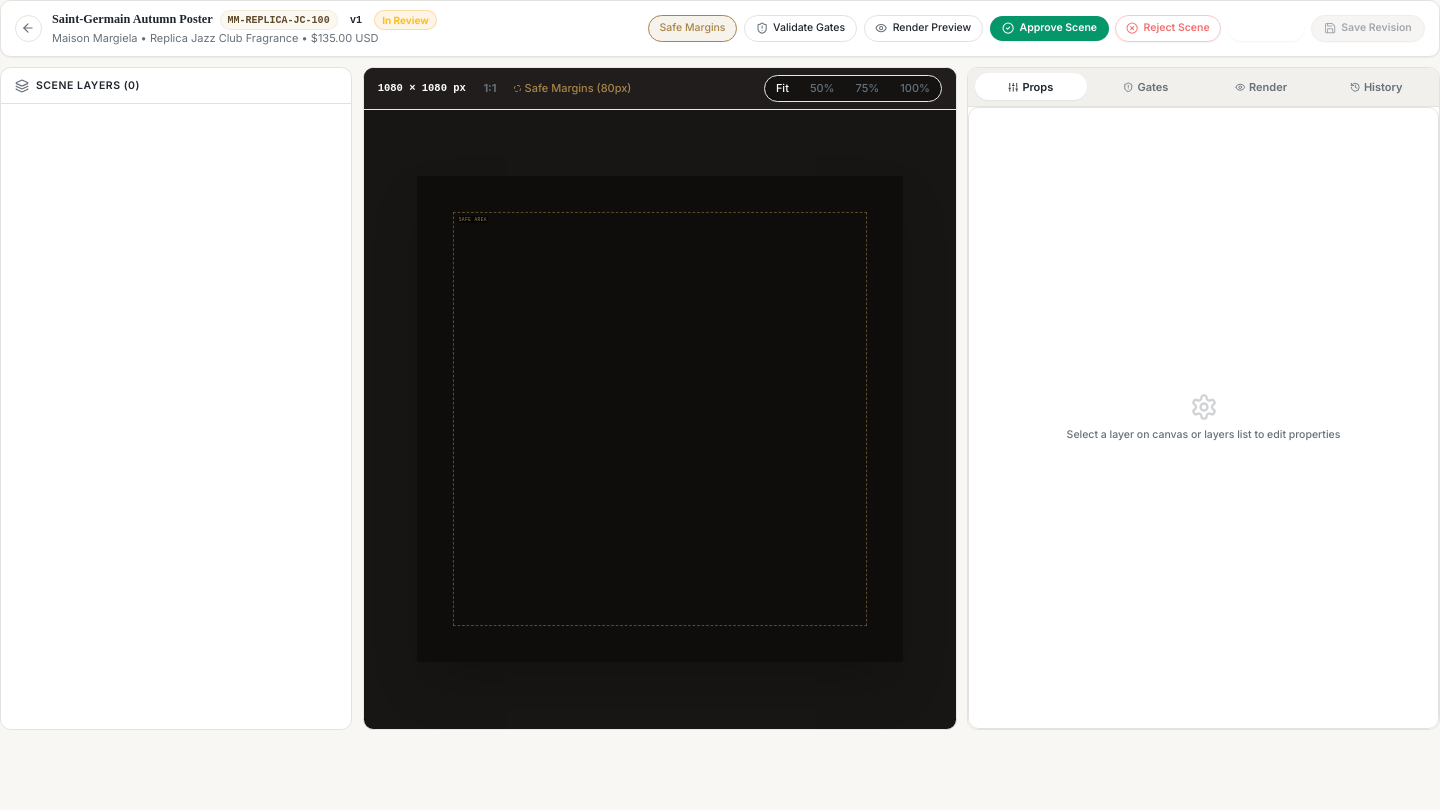
it: Creative Approval Workflow & Security Governance (WEB-CREATIVE-SEC-01 to 15) › WEB-CREATIVE-SEC-13: Handles server approval conflict error and displays error banner
The width and height of the screenshot is (1440, 810).
Step 1. Click the button with test id "approve-scene-button" → x=1050, y=28, box [990,16,1109,40]
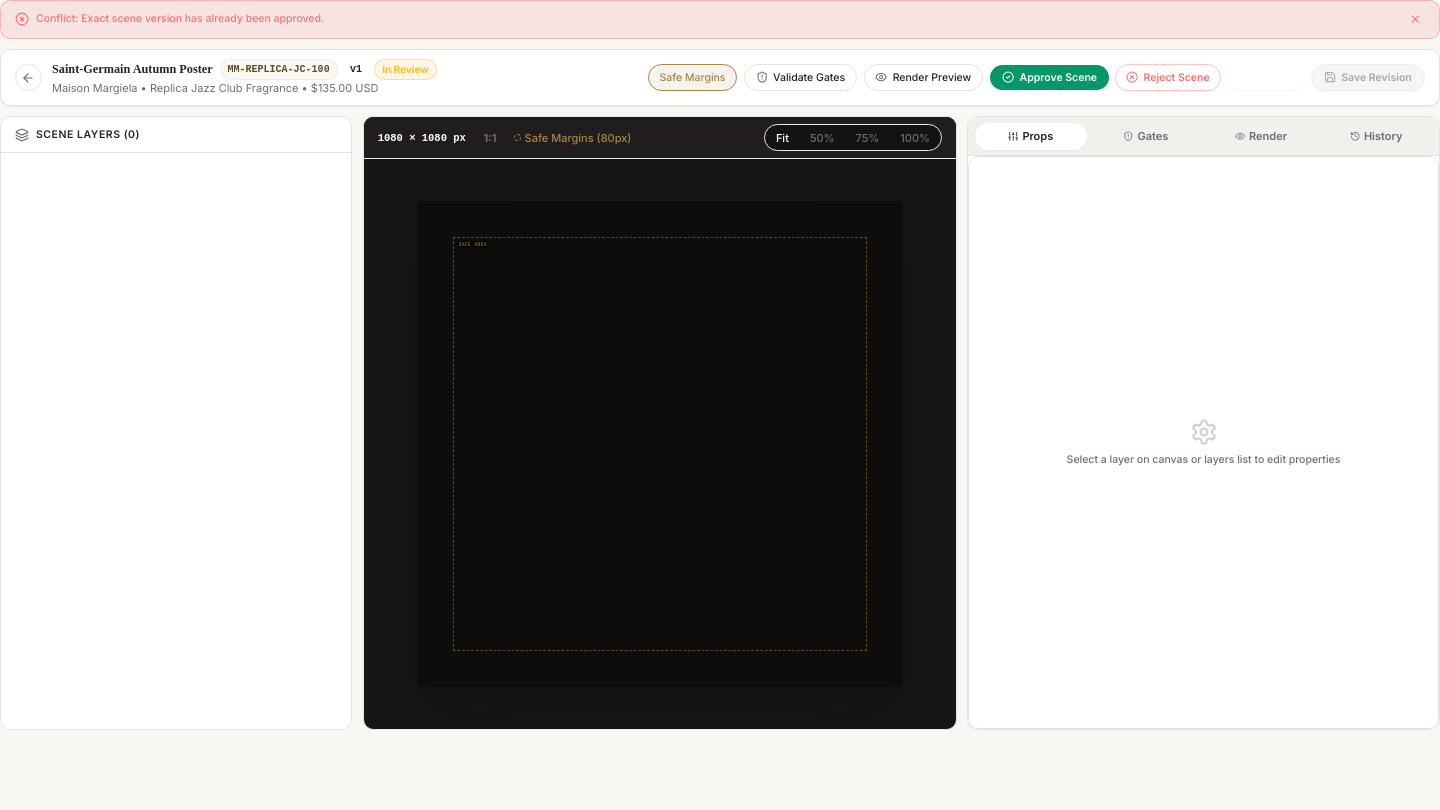
Check: the element with test id "approval-feedback-error" is shown, box [0,0,1439,39]
Check: the element with test id "approval-feedback-error" reads "Conflict: Exact scene version has already been approved.", box [36,12,324,25]
